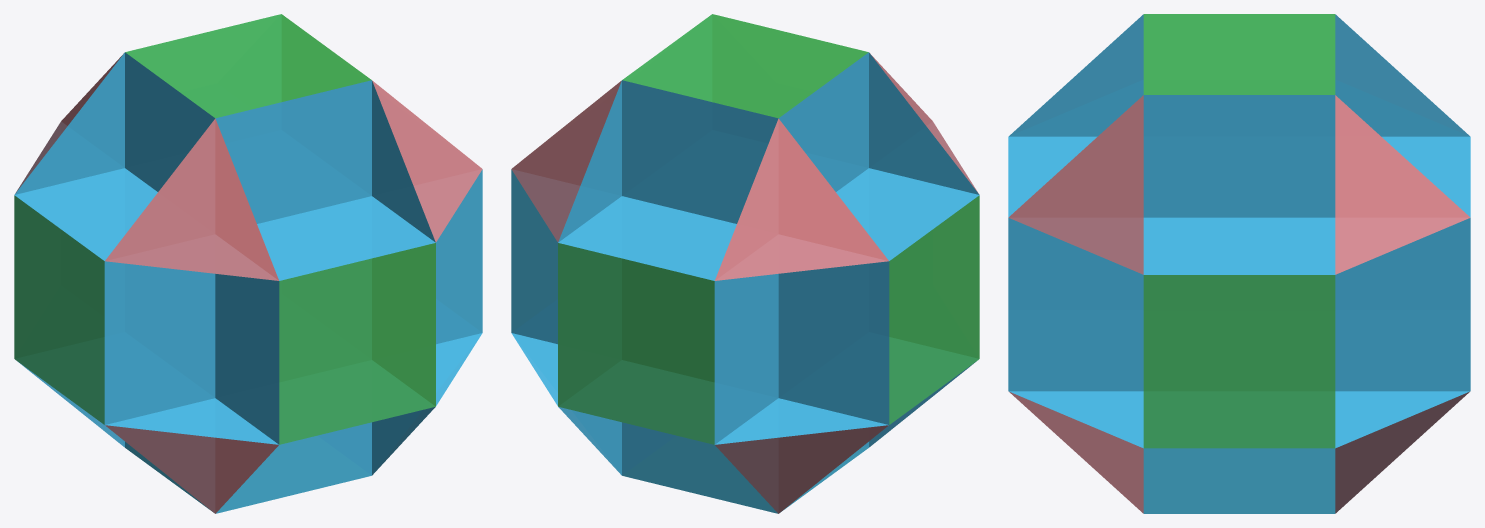
Rendered from SmallCubicuboctahedron.obj.
The picture shows the model from 3 angles, left to right: view 1: azimuth 30°, elevation 25°; view 2: azimuth 150°, elevation 25°; view 3: azimuth 270°, elevation 25°; orthographic projection. The views are drawn at different scales.
Bounding box in the file's own units: 2.41 × 2.41 × 2.41.
